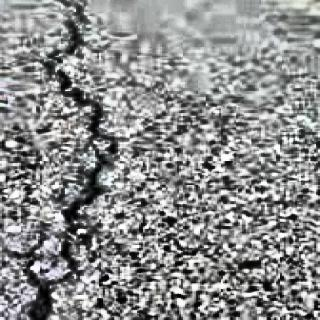crack: (18, 0, 125, 320)
